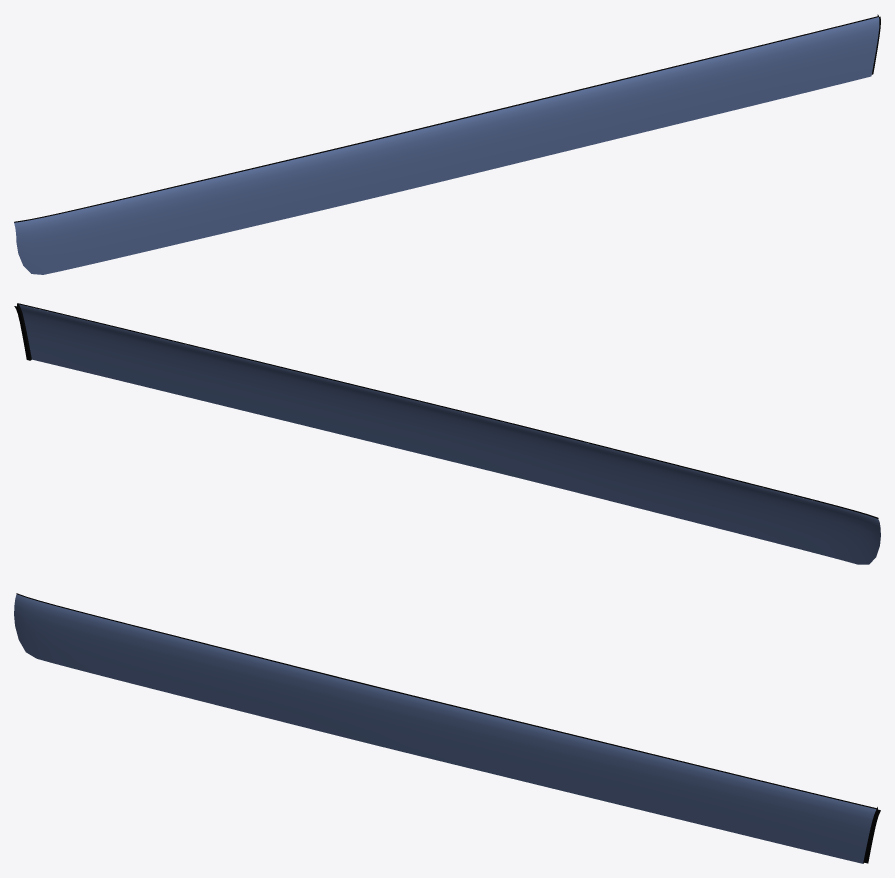
3 views of the same model, one above another, from view 1: azimuth 30°, elevation 25°; view 2: azimuth 150°, elevation 25°; view 3: azimuth 330°, elevation 25° (orthographic).
Visible parts, largest first — view 1: U236_17_226A_R_U236_17_226A_R_1_DaS, U236_17_226A_R_2_D_U236_17_226A_R; view 2: U236_17_226A_R_U236_17_226A_R_1_DaS, U236_17_226A_R_2_D_U236_17_226A_R; view 3: U236_17_226A_R_U236_17_226A_R_1_DaS, U236_17_226A_R_2_D_U236_17_226A_R.
Part boxes in pixels (x1,y1,x2,y2): U236_17_226A_R_U236_17_226A_R_1_DaS: (14,17,879,274); U236_17_226A_R_2_D_U236_17_226A_R: (14,14,880,222); U236_17_226A_R_U236_17_226A_R_1_DaS: (19,304,880,564); U236_17_226A_R_2_D_U236_17_226A_R: (14,303,878,518); U236_17_226A_R_U236_17_226A_R_1_DaS: (14,594,876,863); U236_17_226A_R_2_D_U236_17_226A_R: (16,593,880,863).
Bounding box in the file's own units: 189 × 11.87 × 3.31.
